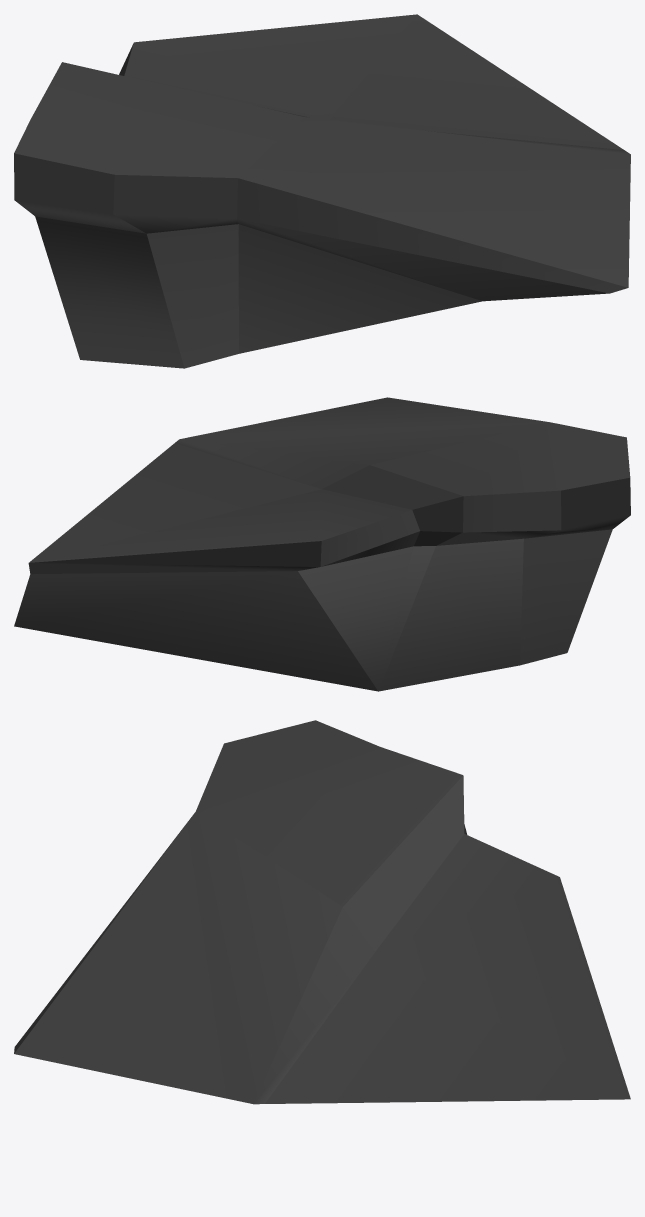
The model's file is SM_Env_RoadPiece_Damaged_13.glb.
3 views of the same model, one above another, from view 1: azimuth 30°, elevation 25°; view 2: azimuth 150°, elevation 25°; view 3: azimuth 270°, elevation 25° (orthographic). The views are drawn at different scales.
Visible parts, largest first — view 1: SM_Env_RoadPiece_Damaged_13; view 2: SM_Env_RoadPiece_Damaged_13; view 3: SM_Env_RoadPiece_Damaged_13.
Part boxes in pixels (x1=…): SM_Env_RoadPiece_Damaged_13: x1=14, y1=14, x2=630, y2=368; SM_Env_RoadPiece_Damaged_13: x1=14, y1=397, x2=630, y2=691; SM_Env_RoadPiece_Damaged_13: x1=14, y1=720, x2=630, y2=1104.
Bounding box in the file's own units: 1.76 × 0.656 × 1.65.
1 material, 1 textured.
